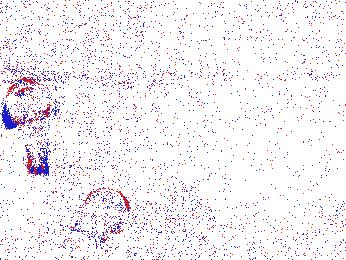flame jellyfish: (1, 81, 58, 176), (76, 186, 131, 244)
